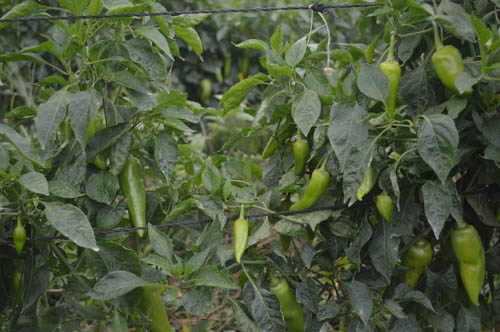ChiliPepper: (451, 229, 486, 307), (119, 161, 148, 234), (286, 171, 329, 213), (138, 275, 169, 332), (434, 47, 471, 92), (268, 278, 301, 323), (400, 245, 430, 293), (377, 61, 400, 111), (231, 220, 251, 262), (294, 142, 308, 175)
